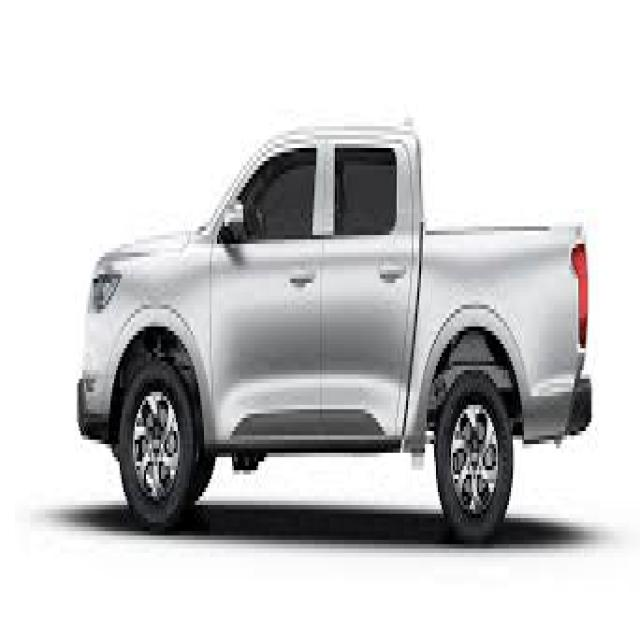CMT: (82, 118, 594, 546)
